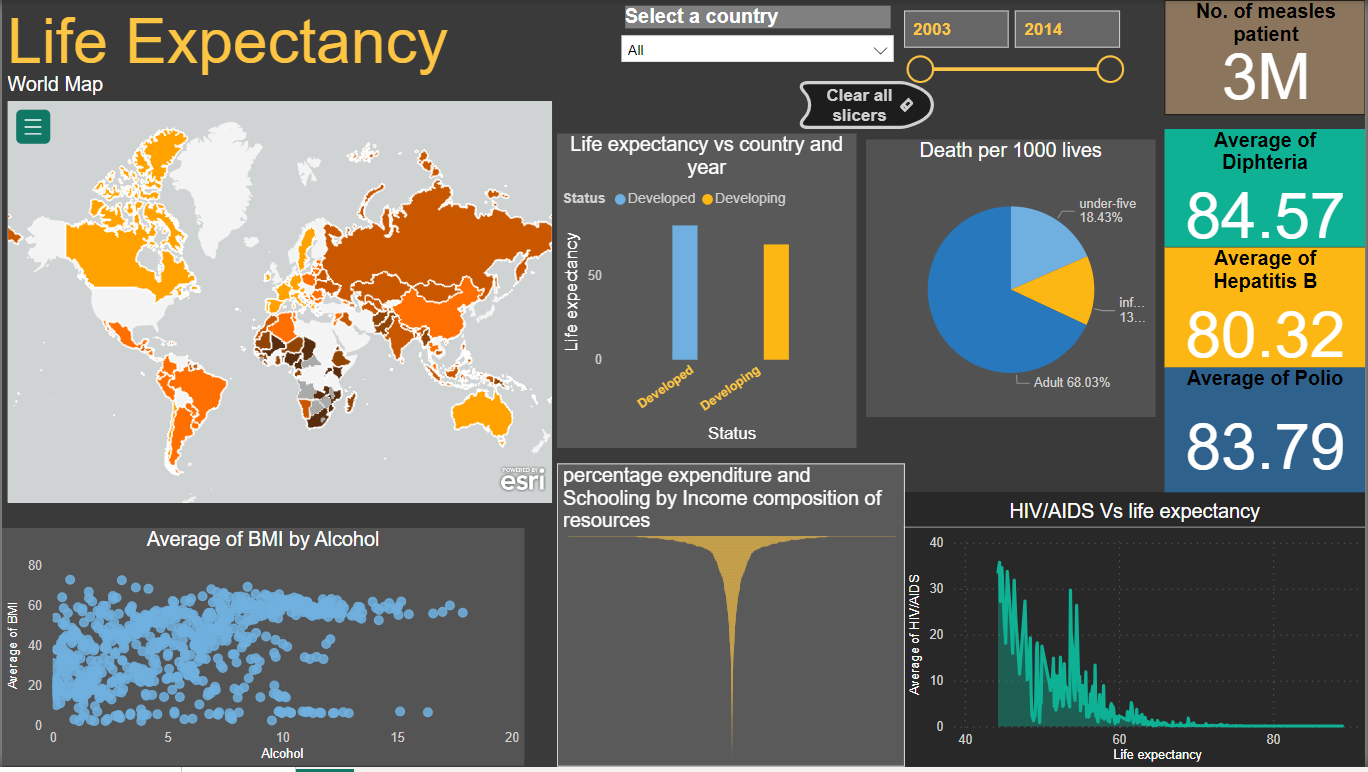

This screenshot's page, from the dashboard's own definition file:
{"tool":"powerbi","page":{"name":"Life Expectency","canvas":[1280,720],"ordinal":0},"visuals":[{"type":"esriVisual","title":"World Map","fields":{"Location":["Life Expectancy Data.Country"],"Color":["LifeExp.Life expectancy  (bins)"]},"box":[0,68.7,521.6,407.6],"z":0},{"type":"pieChart","title":"Death per 1000 lives","fields":{"Y":["Avg(LifeExp.under-five deaths )","Avg(LifeExp.infant deaths)","Avg(LifeExp.Adult Mortality)"]},"box":[802.8,142.1,288.9,260.8],"z":1000},{"type":"card","title":"No. of measles patient","fields":{"Values":["Sum(LifeExp.Measles )"]},"box":[1091.7,0,189,107.8],"z":2000},{"type":"slicer","fields":{"Values":["LifeExp.Country"]},"box":[571.8,0,275.6,69.3],"z":3000},{"type":"slicer","fields":{"Values":["LifeExp.Year"]},"box":[834,0,228,79.7],"z":4000},{"type":"areaChart","title":"HIV/AIDS Vs life expectancy","fields":{"Category":["LifeExp.Life expectancy "],"Y":["Avg(LifeExp. HIV/AIDS)"]},"box":[846.5,462.3,434.2,257.7],"z":5000},{"type":"textbox","box":[0,0,639.7,80.3],"z":6000},{"type":"actionButton","box":[741.1,76.1,140.9,45.1],"z":7000},{"type":"clusteredColumnChart","title":"Life expectancy vs country and year","fields":{"Category":["LifeExp.Status","LifeExp.Country","LifeExp.Year"],"Y":["Avg(LifeExp.Life expectancy )"],"Series":["LifeExp.Status"]},"box":[522.6,141.9,233.5,268.4],"z":8000},{"type":"card","title":"Average of Diphteria","fields":{"Values":["Avg(LifeExp.Diphtheria )"]},"box":[1091.7,121.8,189,110.9],"z":9000},{"type":"card","title":"Average of Hepatitis B","fields":{"Values":["Avg(LifeExp.Hepatitis B)"]},"box":[1091.7,232.7,189,112.5],"z":10000},{"type":"card","title":"Average of Polio","fields":{"Values":["Avg(LifeExp.Polio)"]},"box":[1091.7,345.2,189,117.1],"z":11000},{"type":"scatterChart","fields":{"Y":["Avg(LifeExp. BMI )"],"X":["LifeExp.Alcohol"]},"box":[0,496.7,490.4,223.3],"z":12000},{"type":"funnel","title":"percentage expenditure and Schooling by Income composition of resources","fields":{"Category":["LifeExp.Income composition of resources"],"Y":["Sum(LifeExp.percentage expenditure)"]},"box":[521.3,435.4,326.9,284.6],"z":13000}]}

Visuals, with their boxes in screenshot pixels (x1, y1, x2, y2), scaled from the page's 1280x720 canvas onto the 1368x772 screenshot:
"World Map" esriVisual: (0,74,557,511)
"Death per 1000 lives" pieChart: (858,152,1167,432)
"No. of measles patient" card: (1167,0,1367,116)
slicer - LifeExp.Country: (611,0,906,74)
slicer - LifeExp.Year: (891,0,1135,85)
"HIV/AIDS Vs life expectancy" areaChart: (905,496,1367,771)
textbox: (0,0,684,86)
actionButton: (792,82,943,130)
"Life expectancy vs country and year" clusteredColumnChart: (559,152,808,440)
"Average of Diphteria" card: (1167,131,1367,250)
"Average of Hepatitis B" card: (1167,250,1367,370)
"Average of Polio" card: (1167,370,1367,496)
scatterChart - Avg(LifeExp. BMI ) x LifeExp.Alcohol: (0,533,524,771)
"percentage expenditure and Schooling by Income composition of resources" funnel: (557,467,907,771)
